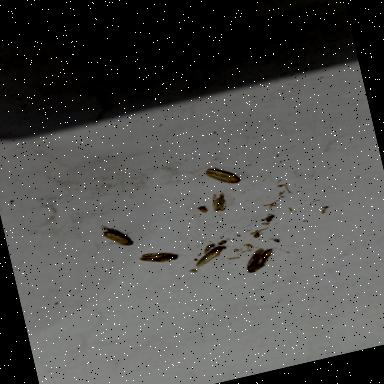pbw: (100, 221, 135, 252), (240, 246, 276, 276), (204, 162, 242, 190), (190, 245, 228, 269), (138, 248, 180, 268)
